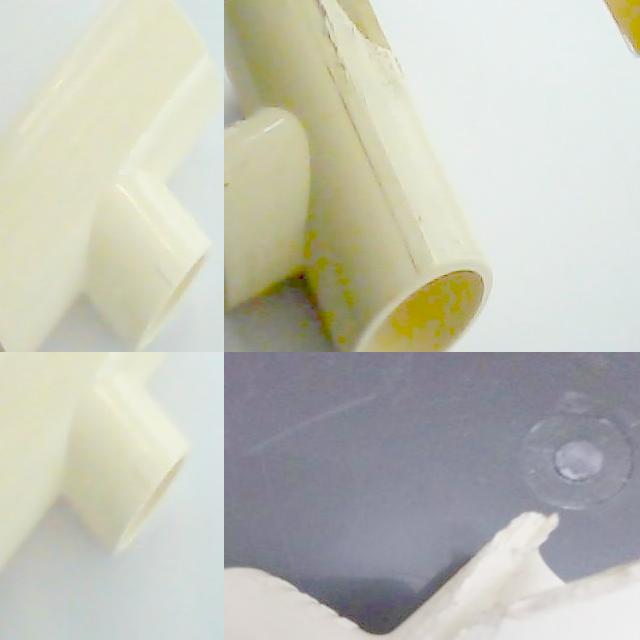Defective: (492, 507, 640, 625), (289, 0, 397, 53), (458, 572, 506, 640)
T Joint: (224, 0, 495, 352), (0, 0, 222, 352)
